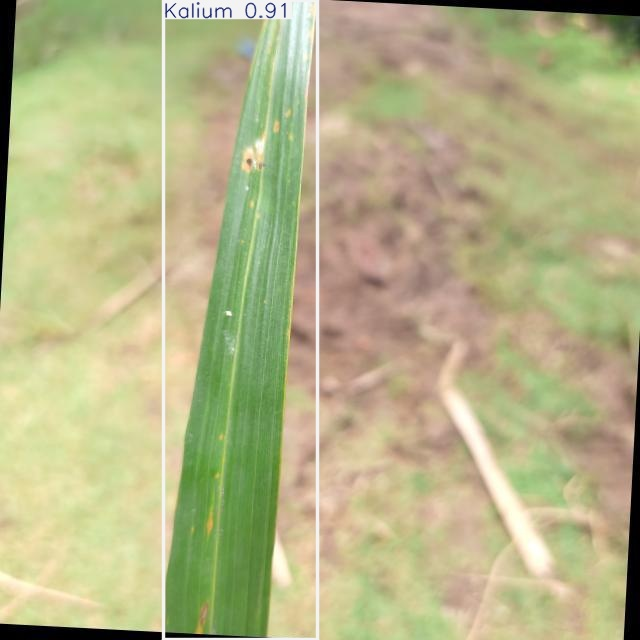Kalium: (163, 0, 317, 640)
